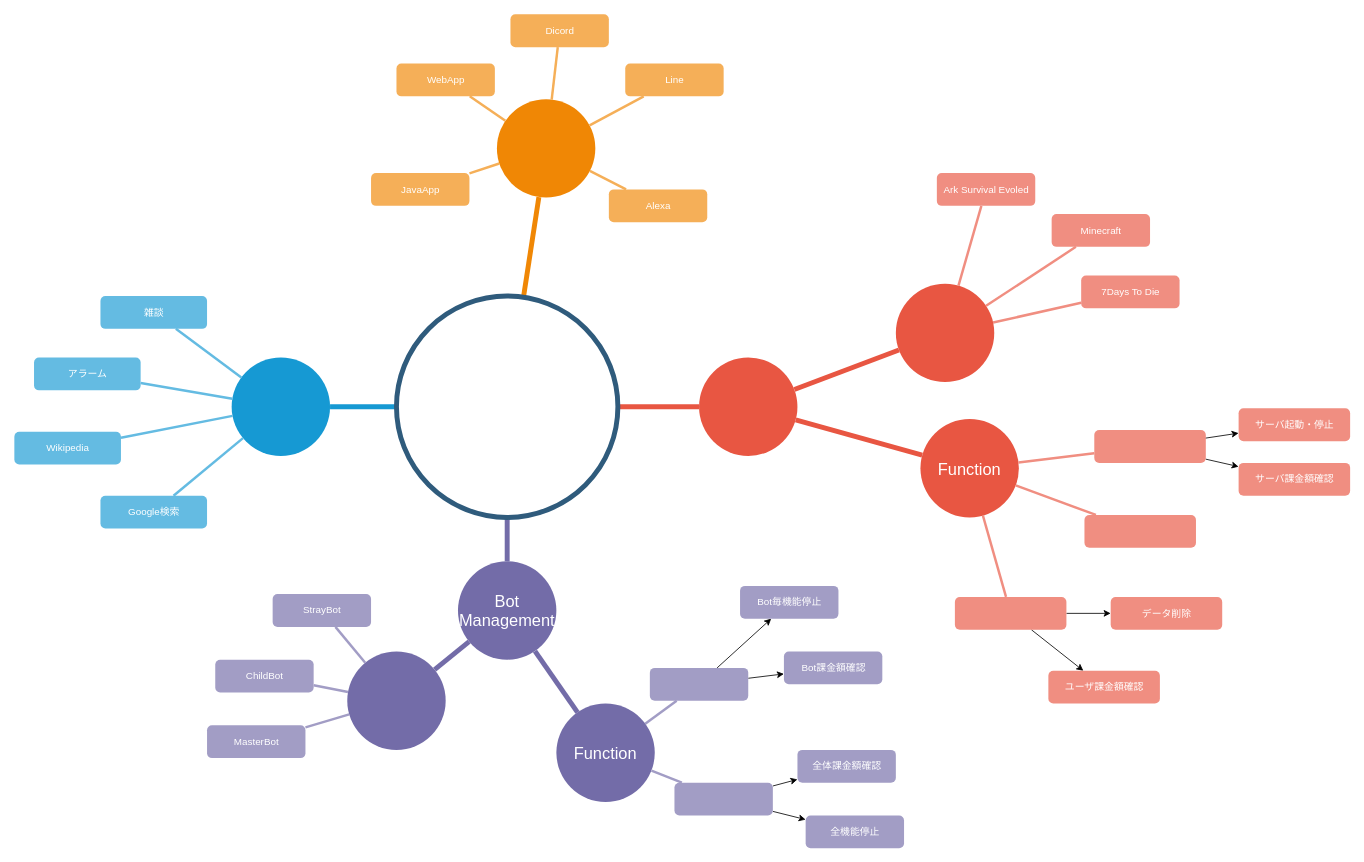
Some shapes in this 1364 by 862 pixel diagram are drawn without their labels. The centre of each missing label's shape, as x and y in pixels:
"Bot" goes at (507,406).
"BotServer" goes at (396,700).
"GameServer" goes at (944,332).
"GameServer Management" goes at (748,406).
"Interface" goes at (546,148).
"MasterBot管理" goes at (723,798).
"Other Function" goes at (280,406).
"Stray/ChildBot管理" goes at (698,683).
"サーバ管理" goes at (1149,446).
"ユーザID毎データ管理" goes at (1010,613).
"多重起動防止" goes at (1140,531).
